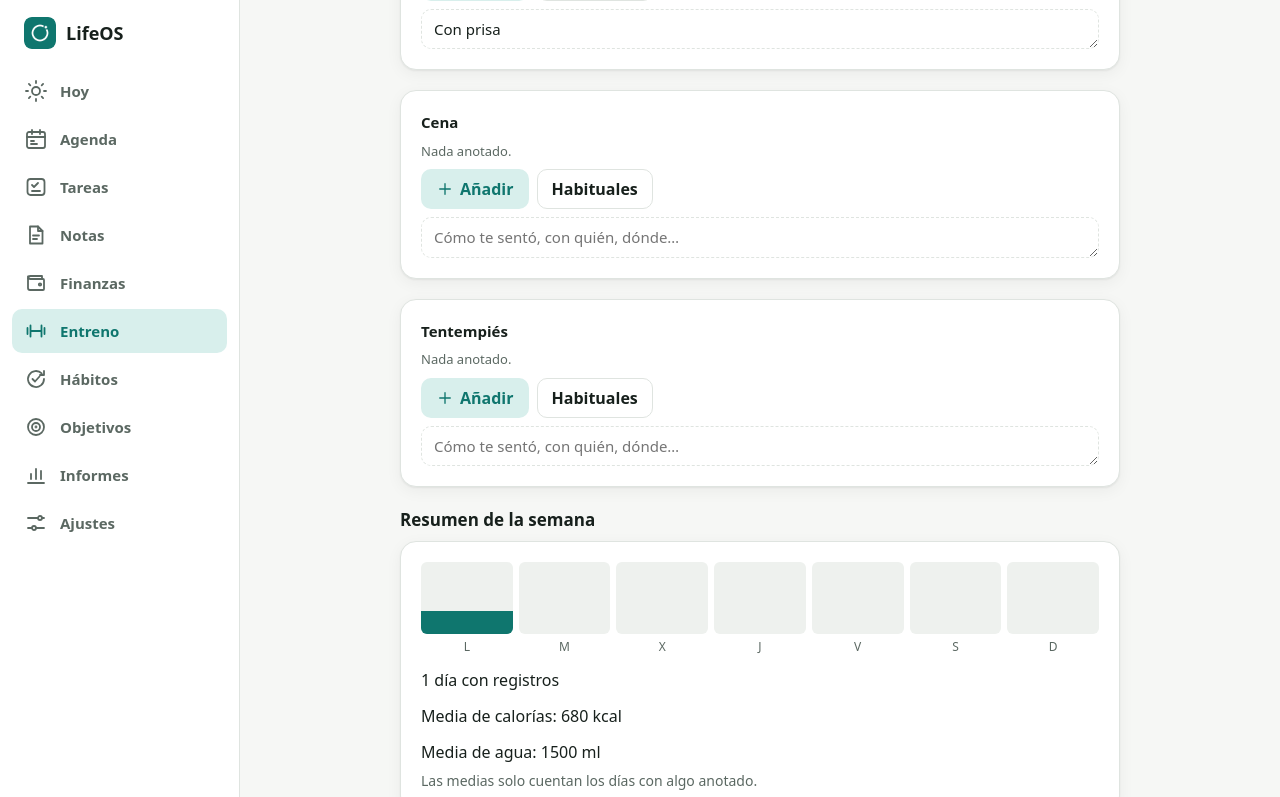
it: diario de alimentación › añade una comida habitual a la comida elegida
The image size is (1280, 797).
(page scrolled)
What coordinates should you click on to do the following:
click the button with aria-label "Añadir una comida habitual a Tentempiés"
I would click on:
 (595, 398)
Its box is [536,378,653,418].
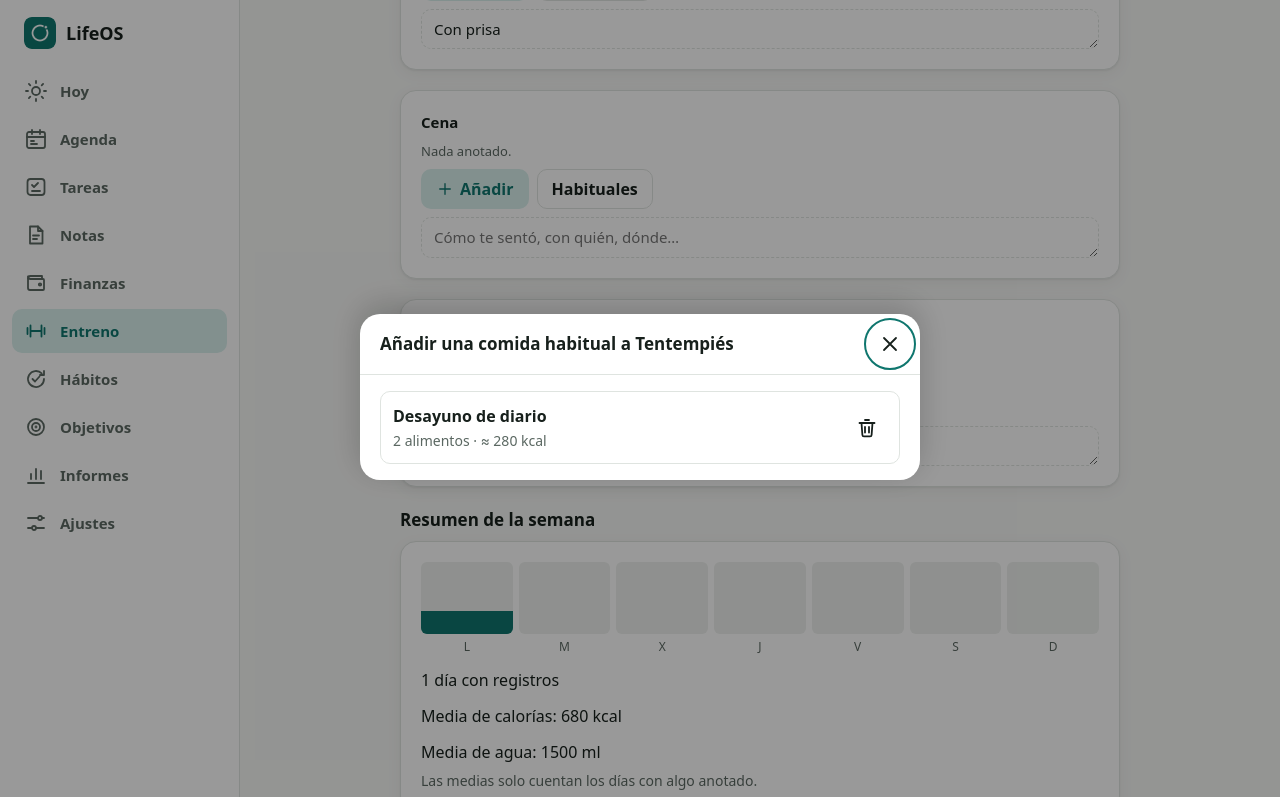
Now the button "Desayuno de diario 2 alimentos · ≈ 280 kcal" is shown
What coordinates should you click on to do the following:
click the button "Desayuno de diario 2 alimentos · ≈ 280 kcal"
I would click on:
 (470, 416)
Its box is [393,396,838,459].
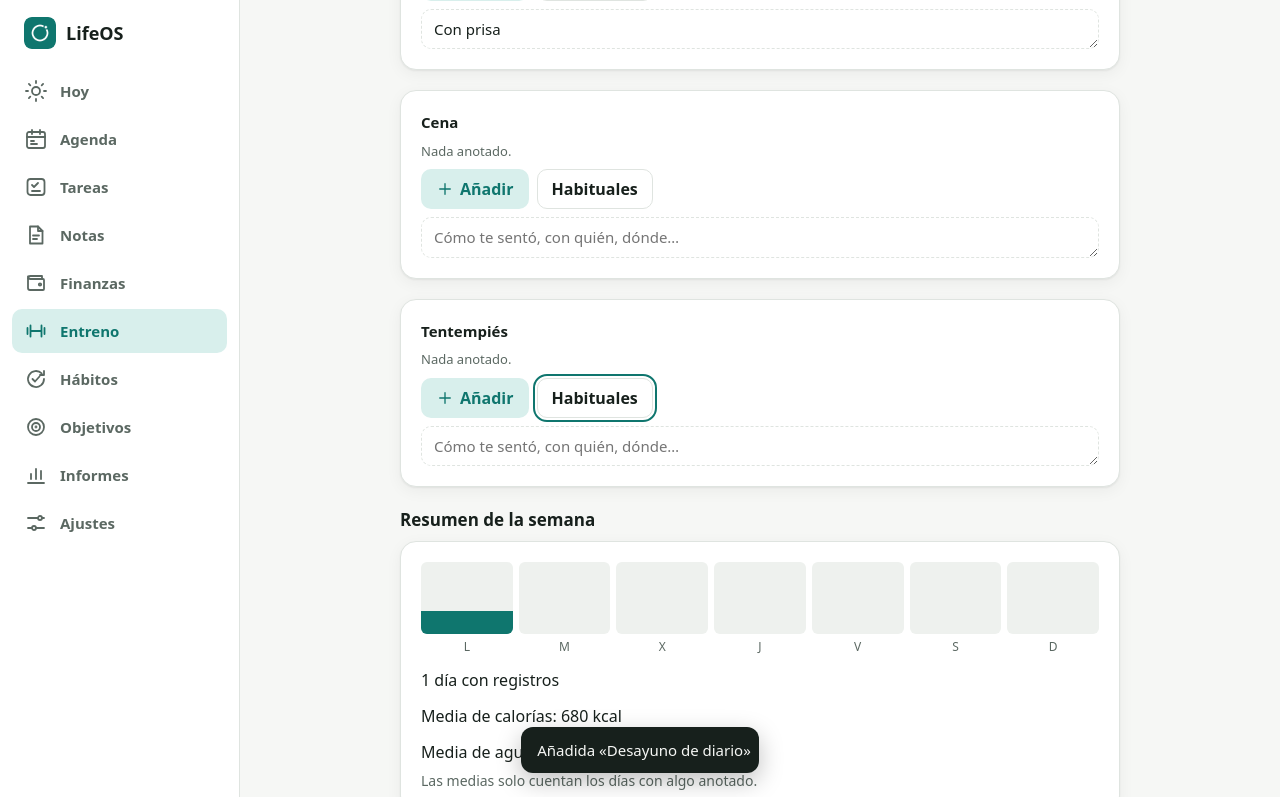
Now the text "Añadida «Desayuno de diario»" is shown, box [537,738,751,761]
